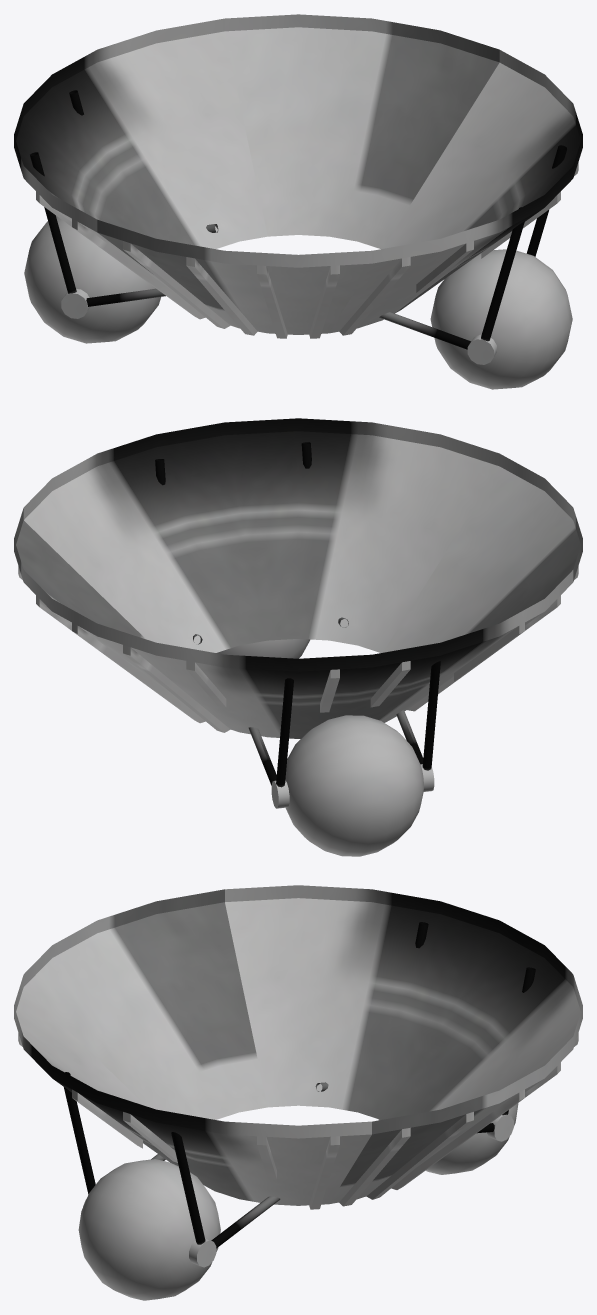
Rendered from us small mount.obj.
3 renders of one model, top to bottom at view 1: azimuth 30°, elevation 25°; view 2: azimuth 150°, elevation 25°; view 3: azimuth 270°, elevation 25°, orthographic.
Visible parts, largest first — view 1: mount; view 2: mount; view 3: mount.
Boxes of the visible parts, x1,y1,x2,y2 form: mount: [14, 14, 582, 389]; mount: [14, 418, 582, 856]; mount: [14, 885, 582, 1300].
Size of the model in its own units: 1.5 by 0.6576 by 1.5.
